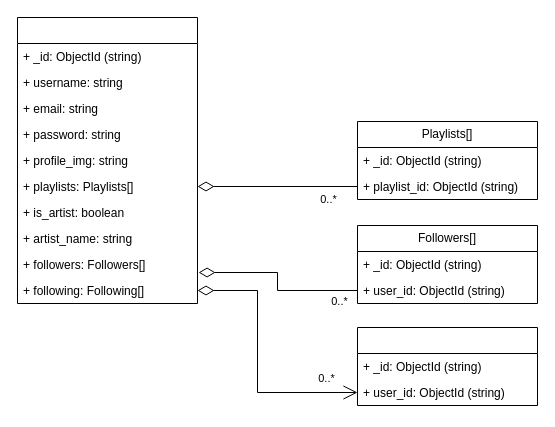
This 555x427 diagram has some shape labels left out. The shapes that lost their labels are listed below. From the top down, each one's box as (x1, y1, x2, y2) in pixels, then its label:
(16, 16, 198, 304): UserSchema
(356, 326, 538, 406): Following[]
